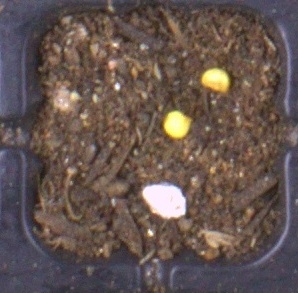chilli seed: (163, 110, 193, 139), (200, 67, 231, 93)
